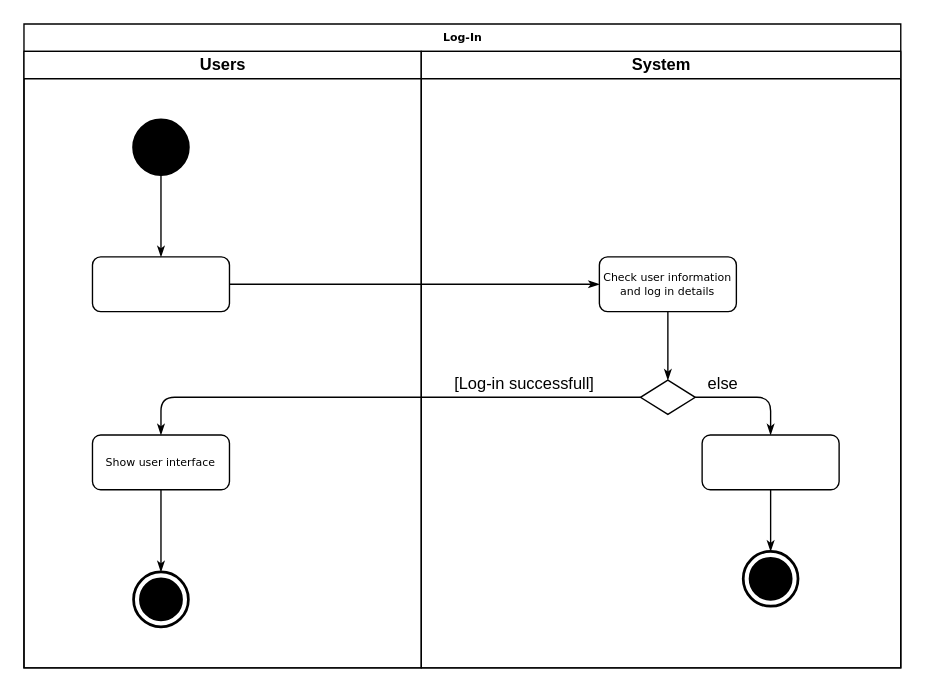
This 925x692 diagram has some shape labels left out. The centre of each missing label's shape, as x and y in pixels:
Display error message: (770,462)
Enter login details: (160,284)
